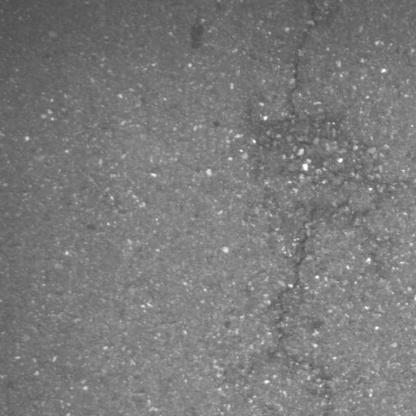Cracks: (273, 225, 314, 372), (312, 383, 388, 416)
